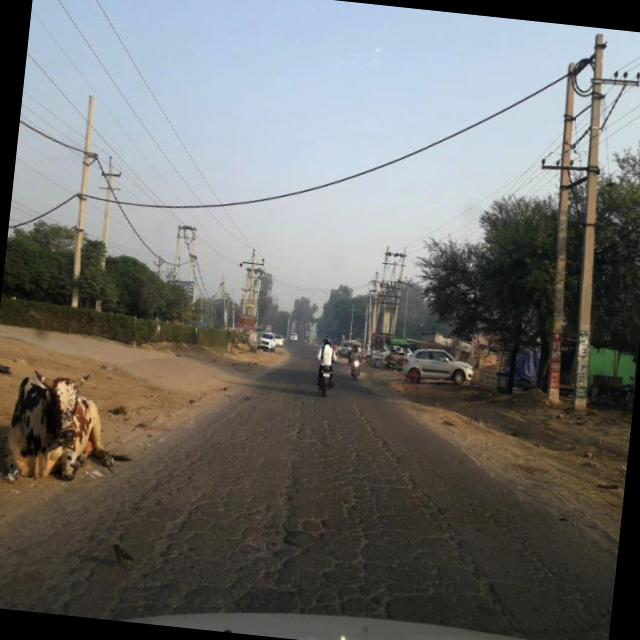crack: (40, 436, 622, 640), (322, 393, 547, 633)
